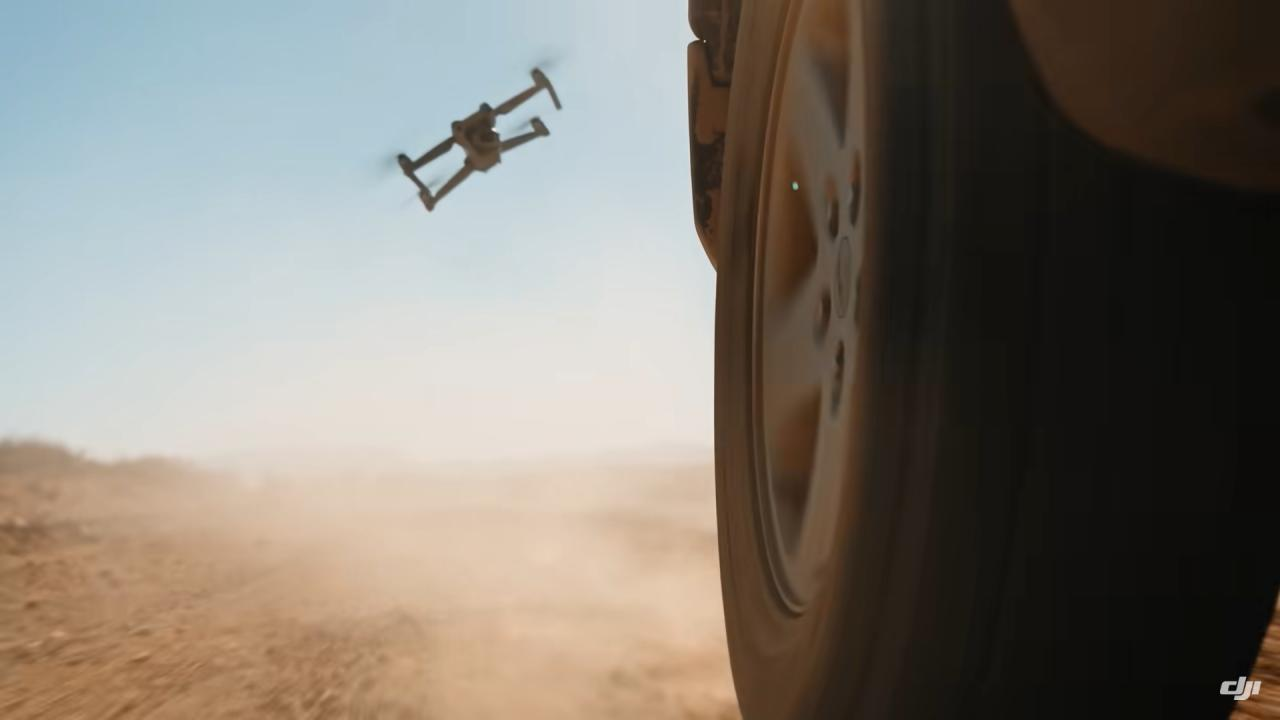Drone: (377, 48, 572, 222)
